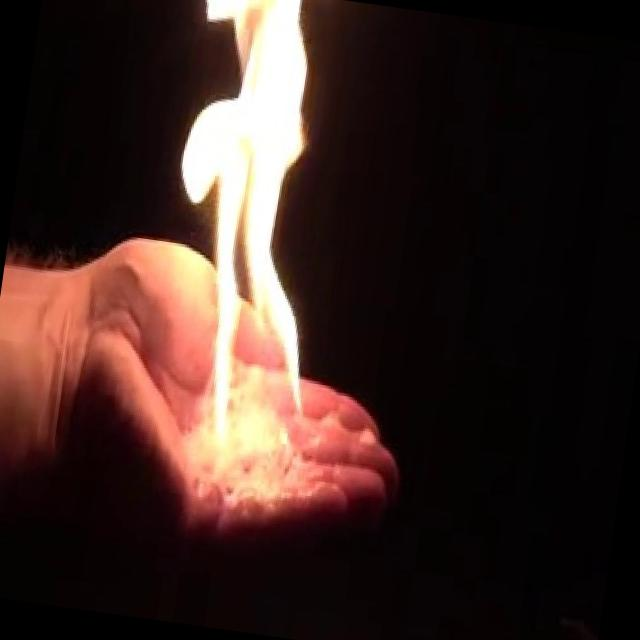Fire: (125, 0, 368, 491)
